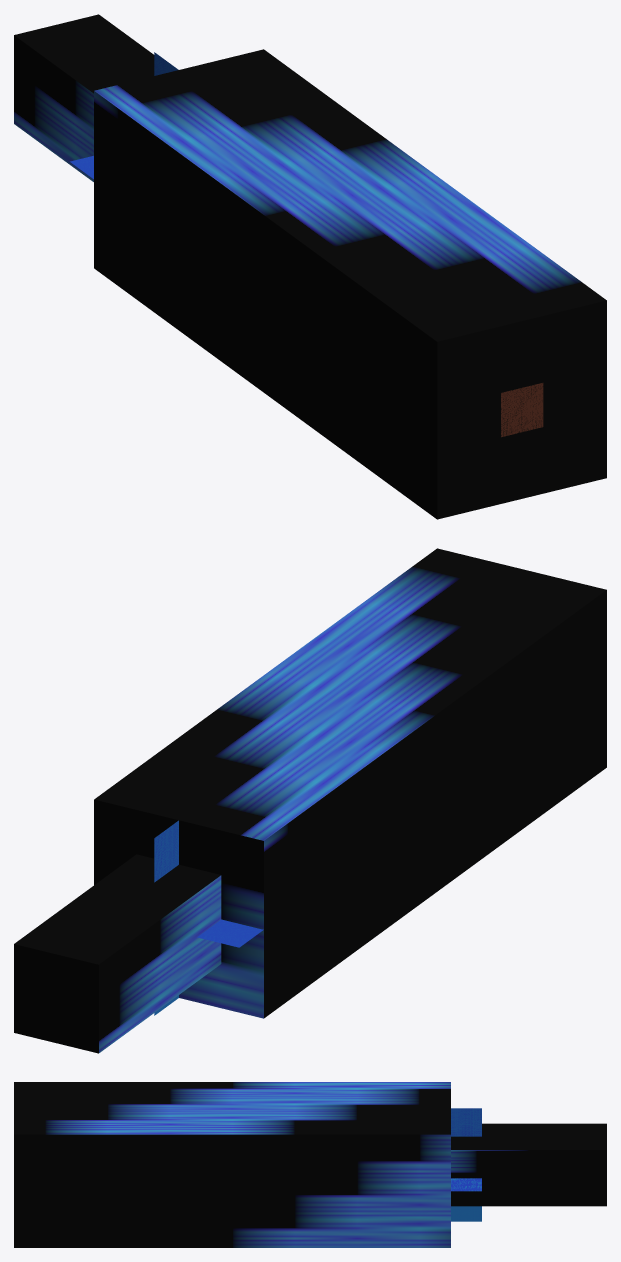
File: ArrowModel.obj
The picture shows the model from 3 angles, top to bottom: view 1: azimuth 30°, elevation 25°; view 2: azimuth 150°, elevation 25°; view 3: azimuth 270°, elevation 25°; orthographic projection. The views are drawn at different scales.
Visible parts, largest first — view 1: cube; view 2: cube; view 3: cube.
Boxes of the visible parts, left/top/right/bottom form: cube: left=14, top=14, right=606, bottom=519; cube: left=14, top=548, right=606, bottom=1053; cube: left=14, top=1082, right=606, bottom=1247.
Size of the model in its own units: 0.25 by 0.25 by 1.19.
2 materials, 2 textured.
